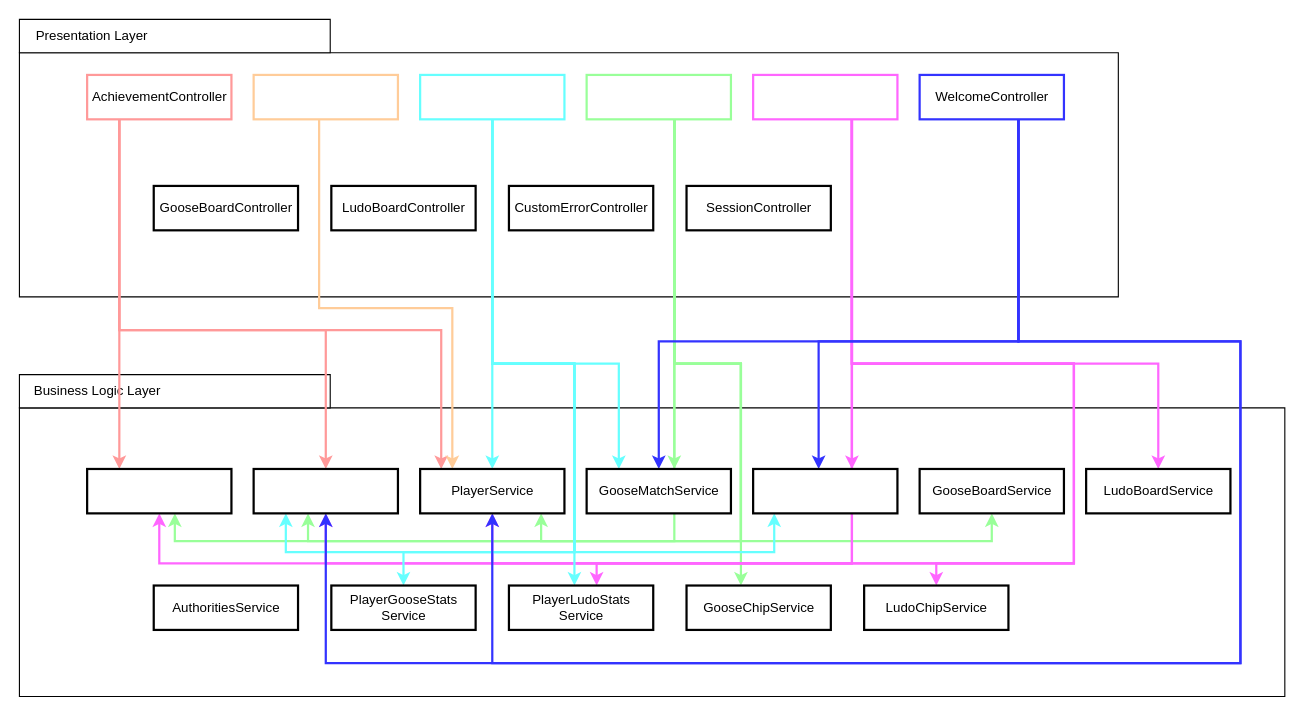
This 1304x716 diagram has some shape labels left out. Here are the shapes that lost their labels. From the top down, the centre of each, then its label:
At (325,96): "UserController".
At (491,96): "PlayerController".
At (658,96): "GooseMatchController".
At (824,96): "LudoMatchController".
At (158,490): "AchievementService".
At (325,490): "UserService".
At (824,490): "LudoMatchService".
